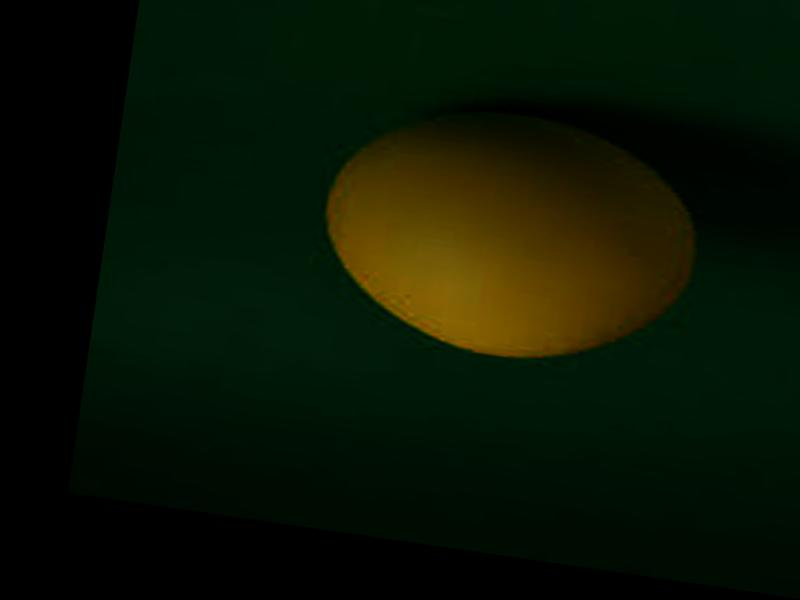Eggs: (303, 85, 701, 382)
